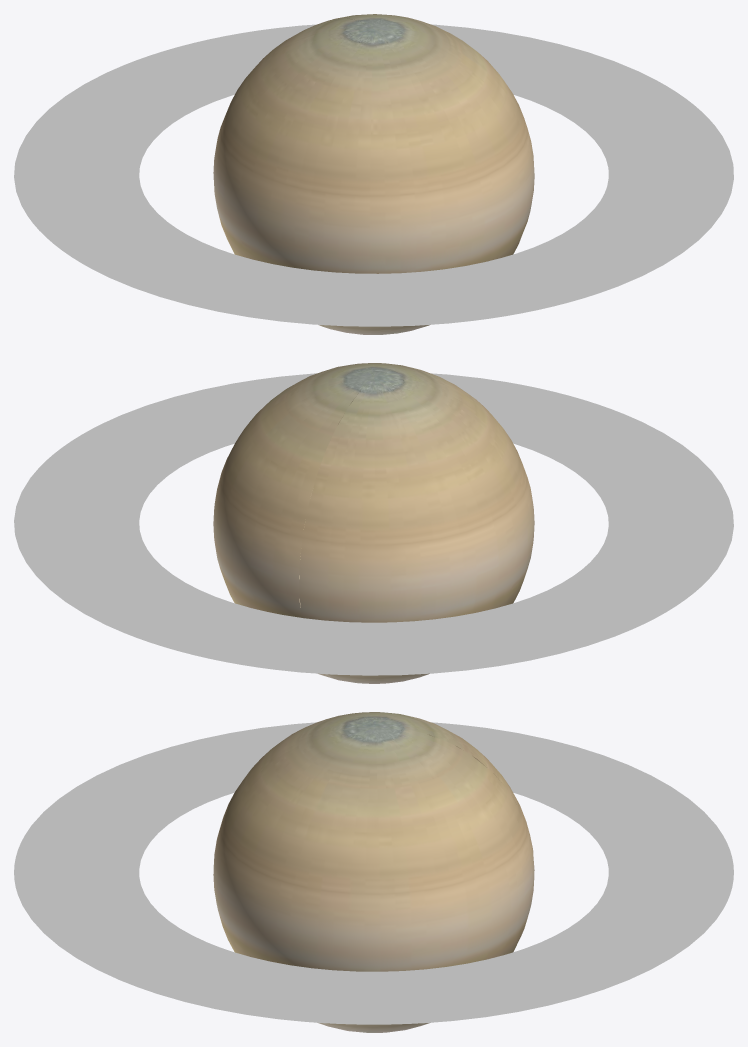
File: Saturn.fbx
3 renders of one model, top to bottom at view 1: azimuth 30°, elevation 25°; view 2: azimuth 150°, elevation 25°; view 3: azimuth 270°, elevation 25°, orthographic.
Parts seen in each view (by area): view 1: Saturn Rings_Material #63_0, Saturn_Material #50_0; view 2: Saturn Rings_Material #63_0, Saturn_Material #50_0; view 3: Saturn Rings_Material #63_0, Saturn_Material #50_0.
Boxes of the visible parts, x1,y1,x2,y2 form: Saturn Rings_Material #63_0: (14,24,733,326); Saturn_Material #50_0: (213,14,534,334); Saturn Rings_Material #63_0: (14,373,733,675); Saturn_Material #50_0: (213,363,534,683); Saturn Rings_Material #63_0: (14,722,733,1024); Saturn_Material #50_0: (213,712,534,1032).
Bounding box in the file's own units: 27585 × 12310 × 27585.
